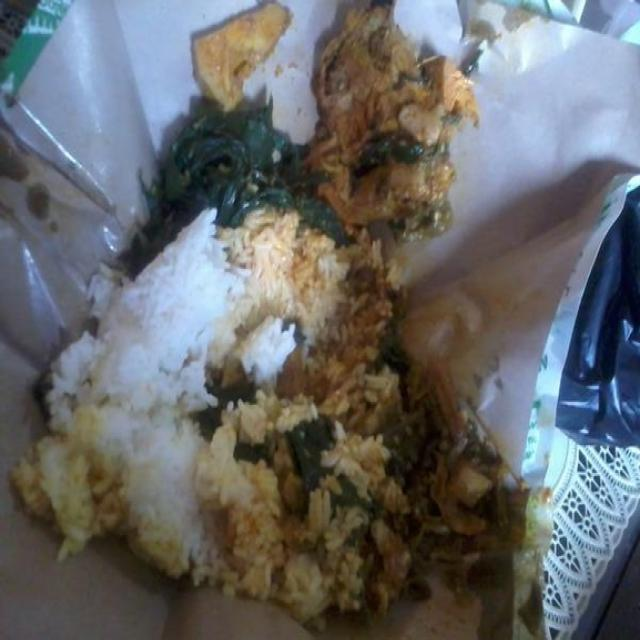米饭主食: (8, 5, 613, 634)
